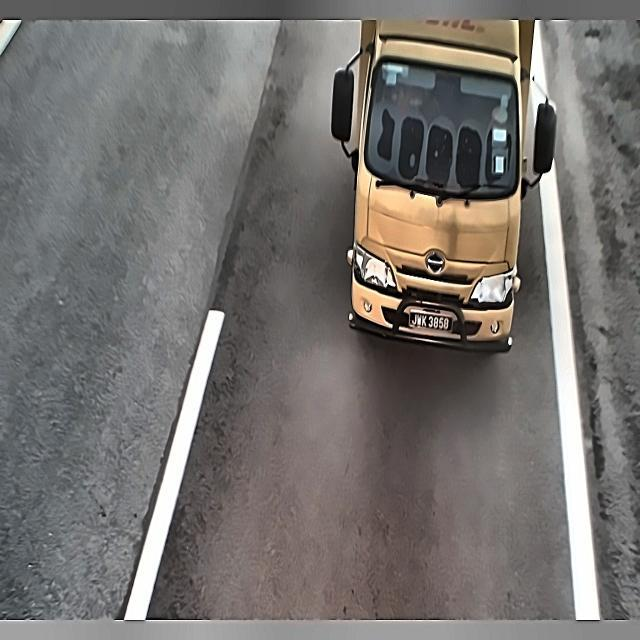car: (407, 304, 454, 342)
